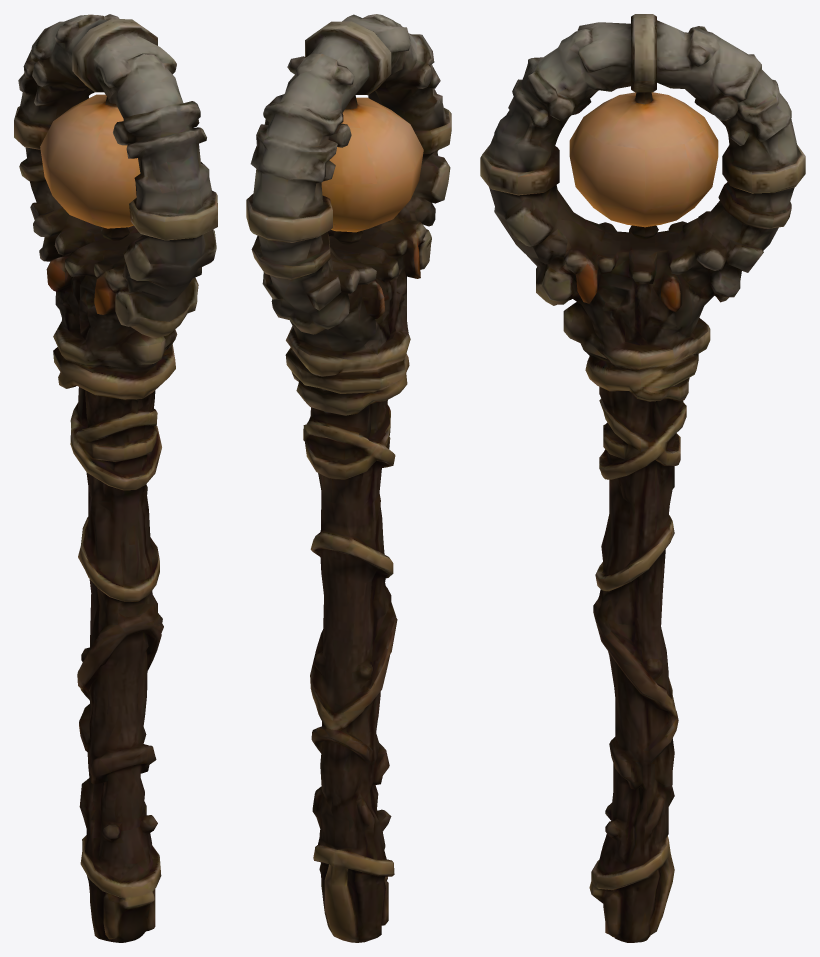
The model's file is w_staff_ancient.glb.
3 renders of one model, left to right at view 1: azimuth 30°, elevation 25°; view 2: azimuth 150°, elevation 25°; view 3: azimuth 270°, elevation 25°, orthographic.
Visible parts, largest first — view 1: tripo_node_f6b2bd01-24a0-48c8-b649-a5038d909861; view 2: tripo_node_f6b2bd01-24a0-48c8-b649-a5038d909861; view 3: tripo_node_f6b2bd01-24a0-48c8-b649-a5038d909861.
Boxes of the visible parts, x1,y1,x2,y2 form: tripo_node_f6b2bd01-24a0-48c8-b649-a5038d909861: (14, 14, 217, 942); tripo_node_f6b2bd01-24a0-48c8-b649-a5038d909861: (246, 14, 451, 942); tripo_node_f6b2bd01-24a0-48c8-b649-a5038d909861: (480, 14, 805, 942).
Size of the model in its own units: 0.1507 by 0.998 by 0.3209.
Materials: 1 (1 with a texture image).
